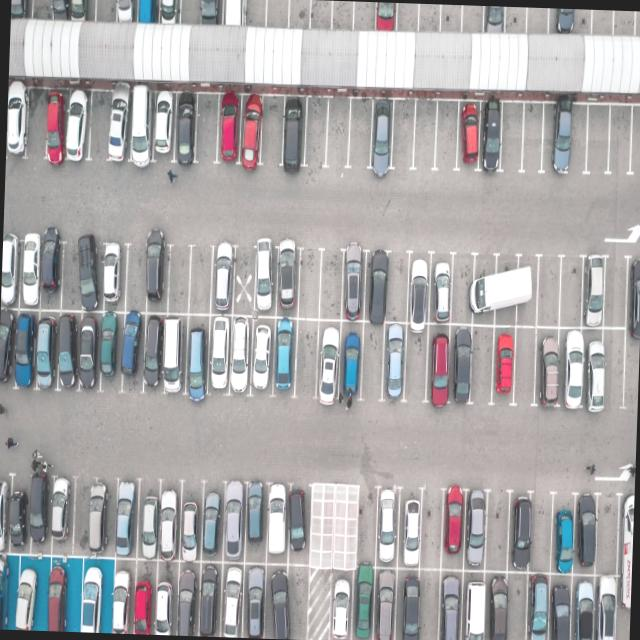car: (4, 554, 44, 630), (556, 327, 590, 408), (75, 554, 111, 630), (568, 329, 600, 412), (183, 314, 213, 396), (534, 328, 564, 408), (248, 316, 278, 396), (161, 315, 191, 395), (217, 478, 246, 560), (544, 101, 576, 175), (423, 323, 452, 403), (204, 315, 233, 395), (112, 477, 141, 557), (214, 564, 245, 638), (269, 316, 298, 395), (128, 558, 158, 634), (108, 557, 138, 633), (152, 486, 182, 562), (194, 558, 224, 634), (174, 558, 204, 634), (438, 487, 466, 568), (336, 318, 364, 399), (314, 318, 342, 399), (148, 560, 178, 635), (224, 316, 252, 396), (583, 327, 611, 407), (42, 556, 72, 630), (372, 485, 399, 567), (489, 323, 517, 402), (120, 311, 148, 390), (459, 569, 490, 640), (9, 308, 36, 389), (446, 324, 473, 404), (463, 488, 490, 568), (397, 487, 424, 567), (491, 253, 521, 325), (31, 310, 58, 390), (381, 322, 408, 401), (404, 253, 434, 324), (128, 89, 156, 165), (47, 473, 75, 549), (242, 560, 270, 636), (262, 561, 290, 637), (208, 243, 237, 316), (264, 482, 291, 560), (84, 478, 111, 556), (54, 311, 80, 392), (92, 477, 119, 555), (576, 258, 606, 328), (100, 242, 130, 312), (436, 568, 465, 640), (98, 308, 124, 388), (242, 480, 268, 560), (254, 241, 282, 315), (550, 498, 578, 572), (200, 481, 226, 560), (142, 313, 168, 392), (214, 93, 242, 166), (148, 90, 176, 163), (455, 100, 484, 170), (284, 488, 310, 566), (506, 494, 532, 572), (369, 565, 396, 640), (172, 93, 200, 165), (471, 252, 499, 324), (22, 471, 48, 548), (14, 236, 41, 310), (175, 486, 202, 560), (329, 569, 357, 640), (361, 252, 389, 322), (273, 244, 300, 316), (280, 96, 307, 168), (65, 89, 92, 161), (426, 255, 454, 324), (546, 571, 574, 640), (134, 481, 159, 558), (37, 234, 63, 308), (394, 566, 420, 640), (77, 312, 101, 392), (235, 94, 262, 165), (340, 251, 368, 319), (566, 572, 594, 640), (522, 573, 550, 640), (80, 238, 106, 310), (348, 568, 374, 640), (512, 254, 538, 326), (574, 496, 598, 573), (370, 99, 396, 170), (478, 103, 504, 174), (44, 87, 68, 162), (108, 89, 132, 163), (144, 244, 170, 312), (482, 573, 508, 640), (6, 84, 29, 158), (595, 572, 620, 640), (8, 473, 30, 549), (1, 232, 22, 306), (616, 492, 634, 575), (625, 256, 640, 329), (0, 308, 14, 386), (615, 573, 631, 640), (550, 8, 591, 34), (0, 555, 11, 629), (372, 1, 397, 32), (0, 478, 10, 555), (483, 6, 508, 33), (220, 0, 245, 26), (156, 0, 182, 24), (136, 0, 162, 24), (197, 0, 221, 24), (66, 0, 92, 21), (114, 0, 137, 23), (10, 0, 31, 20), (49, 0, 69, 20)
free: (290, 318, 319, 397), (600, 328, 629, 407), (467, 324, 496, 402), (280, 563, 310, 638), (510, 326, 538, 406), (402, 325, 431, 401), (358, 321, 386, 399), (484, 493, 511, 572), (417, 489, 443, 571), (352, 488, 378, 570), (412, 567, 441, 640), (600, 256, 628, 331), (228, 244, 256, 318), (497, 99, 525, 172), (346, 95, 374, 168), (528, 494, 554, 572), (194, 93, 222, 165), (380, 252, 408, 324), (608, 104, 636, 176), (448, 254, 476, 326), (260, 96, 288, 168), (594, 495, 619, 575), (188, 245, 216, 316), (388, 99, 416, 170), (556, 257, 584, 328), (536, 256, 564, 327), (60, 556, 86, 632), (87, 90, 114, 163), (316, 251, 344, 321), (293, 250, 321, 320), (585, 102, 612, 174), (166, 245, 194, 314), (25, 89, 51, 162), (303, 96, 330, 166), (434, 100, 461, 170), (413, 100, 440, 170), (520, 101, 546, 173), (60, 238, 86, 310), (326, 97, 352, 168), (503, 572, 530, 640), (124, 244, 150, 312), (72, 479, 94, 555), (306, 488, 326, 570), (568, 102, 590, 176), (621, 330, 640, 408), (328, 0, 354, 32), (352, 1, 377, 32), (629, 105, 640, 175), (394, 2, 419, 32), (308, 0, 333, 30), (460, 5, 486, 33), (264, 0, 289, 28), (286, 0, 310, 29), (440, 4, 464, 33), (525, 8, 549, 36), (418, 4, 442, 32), (503, 6, 526, 34), (611, 10, 635, 36), (179, 0, 202, 26), (244, 0, 267, 26), (590, 10, 614, 34), (95, 0, 118, 24), (31, 0, 54, 20), (633, 10, 640, 35)
